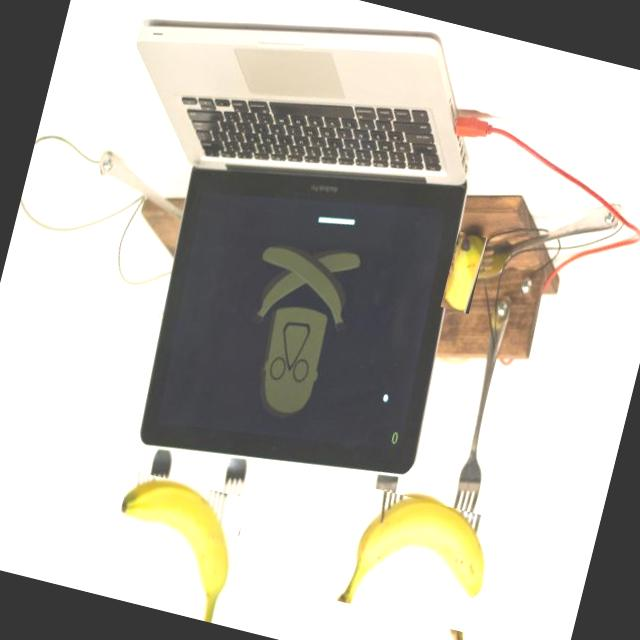Banana: (317, 481, 510, 636), (99, 469, 247, 624), (440, 231, 487, 314)
